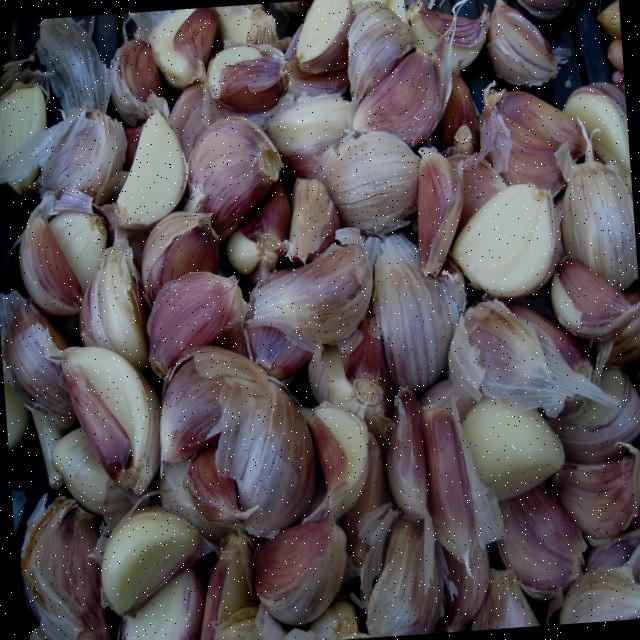garlic: (159, 347, 315, 537), (247, 227, 373, 351), (61, 346, 161, 495), (554, 118, 638, 289), (372, 233, 456, 392), (451, 183, 560, 297), (184, 117, 282, 242), (312, 130, 420, 236), (147, 271, 247, 378), (461, 397, 564, 500), (351, 46, 443, 147), (115, 112, 187, 229), (159, 359, 224, 463), (18, 216, 82, 317), (286, 178, 340, 264)
